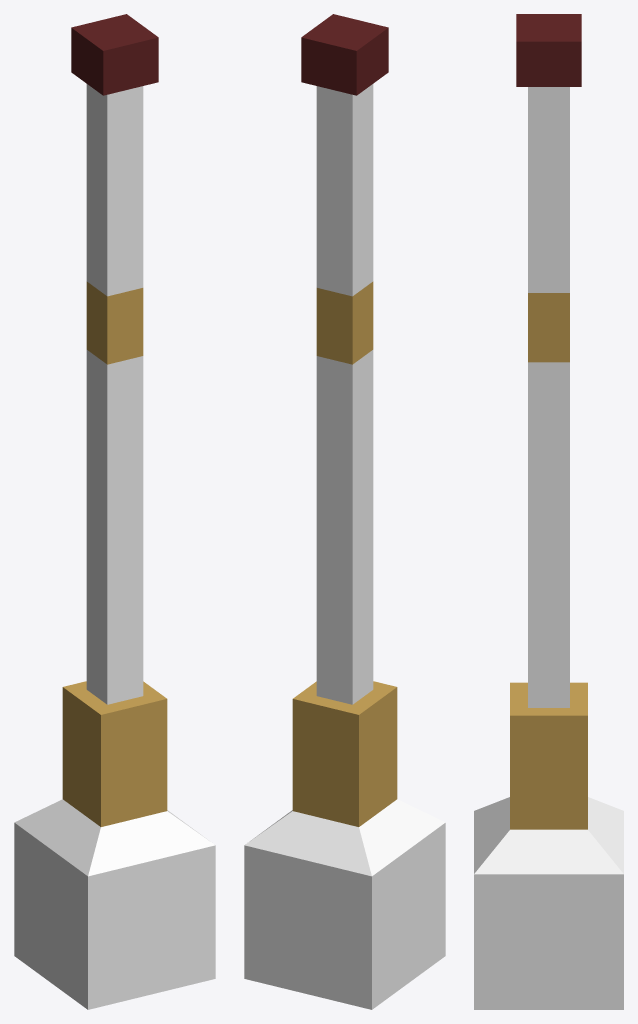
File: landing_pad_radio.fbx
3 renders of one model, left to right at view 1: azimuth 30°, elevation 25°; view 2: azimuth 150°, elevation 25°; view 3: azimuth 270°, elevation 25°, orthographic.
Visible parts, largest first — view 1: Cube; view 2: Cube; view 3: Cube.
Boxes of the visible parts, x1=… form: Cube: x1=14, y1=14, x2=215, y2=1009; Cube: x1=244, y1=14, x2=445, y2=1009; Cube: x1=474, y1=14, x2=623, y2=1009.
Bounding box in the file's own units: 200 × 1400 × 200.
